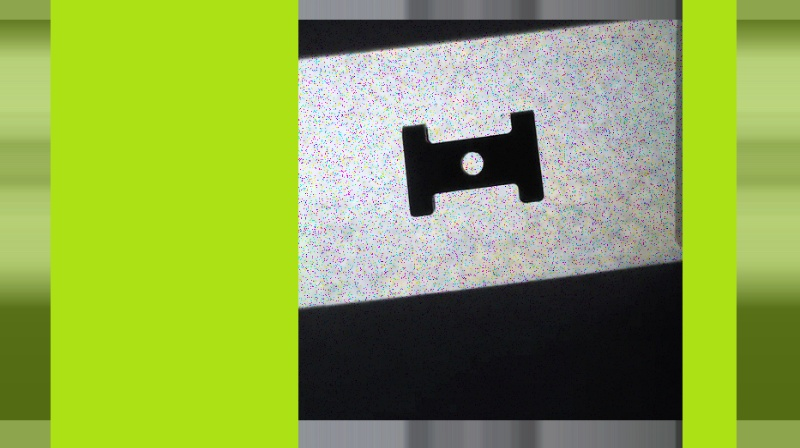O002: (399, 101, 545, 219)
